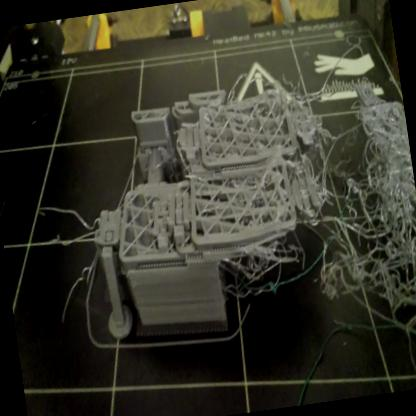fail: (307, 93, 416, 376)
